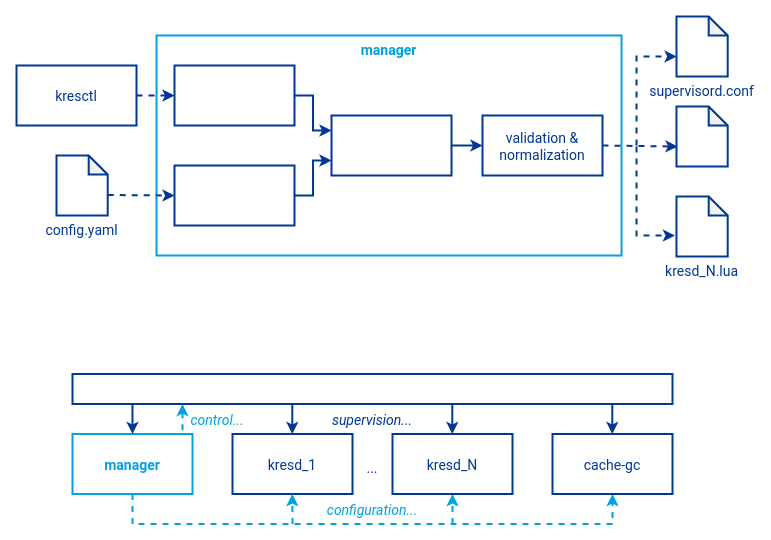
The diagram is 771 pixels wide and 540 high, and some of its shapes have lost their labels. The box of each missing label's shape, as (x1, y1, x2, y2) in pixels:
API: (173, 64, 295, 126)
kresd_1.lua: (675, 105, 728, 167)
load file: (173, 164, 295, 226)
parsing: (330, 114, 452, 176)
supervisord: (71, 372, 673, 404)
